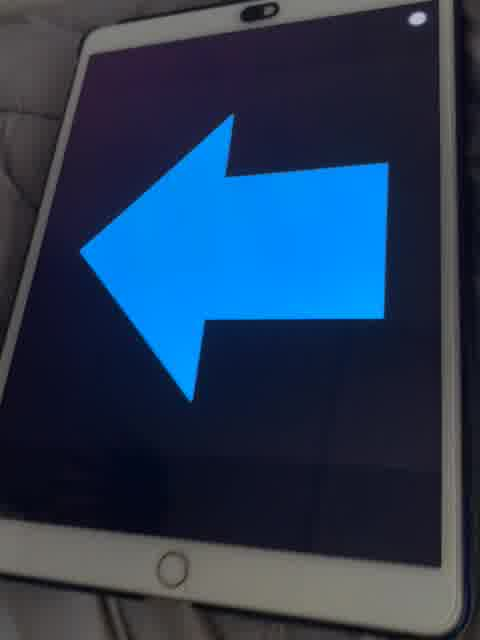left: (74, 107, 392, 403)
